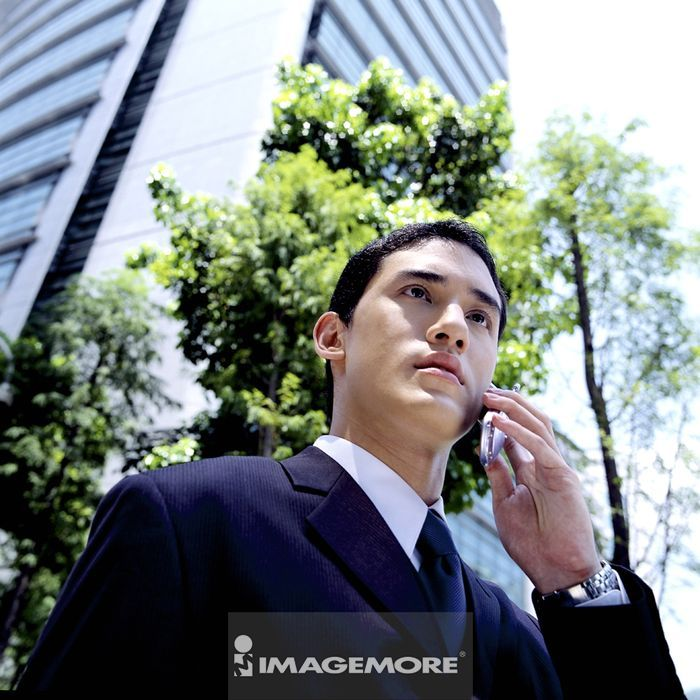talk: (369, 268, 598, 589)
